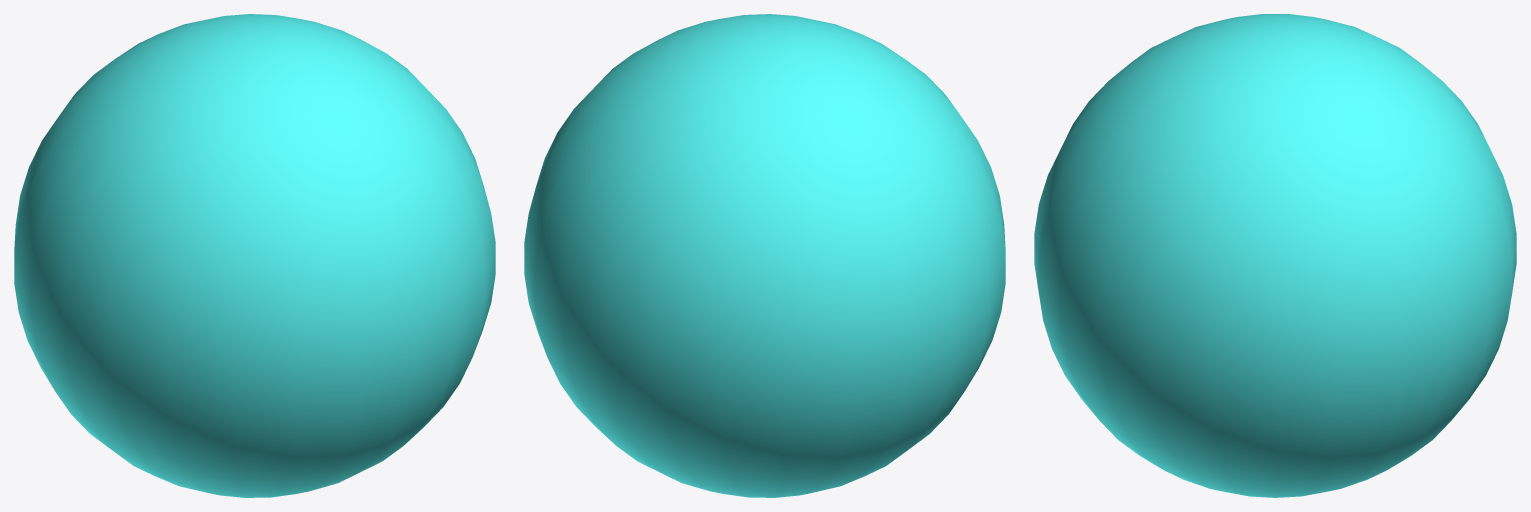
File: ball.fbx
3 renders of one model, left to right at view 1: azimuth 30°, elevation 25°; view 2: azimuth 150°, elevation 25°; view 3: azimuth 270°, elevation 25°, orthographic.
Parts seen in each view (by area): view 1: pSphere1; view 2: pSphere1; view 3: pSphere1.
Part boxes in pixels (x1=…): pSphere1: x1=14, y1=14, x2=495, y2=497; pSphere1: x1=524, y1=14, x2=1005, y2=497; pSphere1: x1=1034, y1=14, x2=1516, y2=497.
Bounding box in the file's own units: 199 × 200 × 199.
